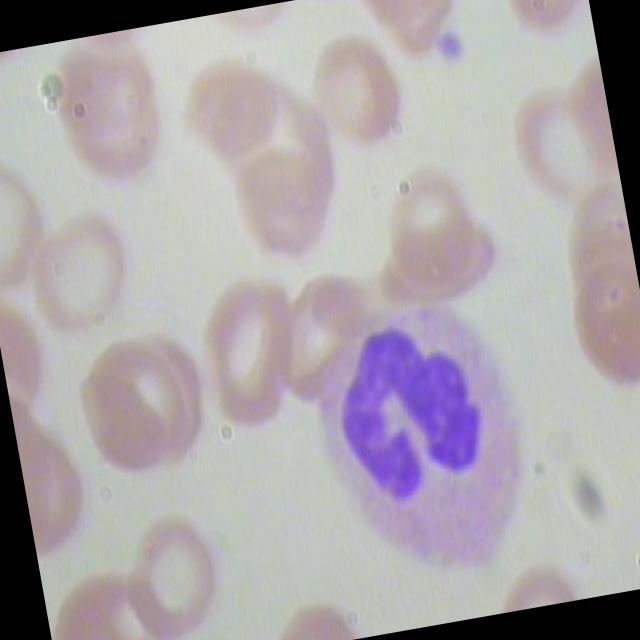Platelets: (428, 24, 480, 70)
RBC: (188, 277, 314, 439), (498, 77, 624, 239), (254, 246, 380, 408), (222, 134, 348, 296), (374, 156, 499, 318), (176, 35, 300, 183), (112, 507, 246, 640), (20, 206, 142, 344), (69, 349, 179, 502), (298, 28, 419, 166), (50, 62, 171, 200), (553, 259, 640, 416)
WBC: (285, 291, 554, 603)
